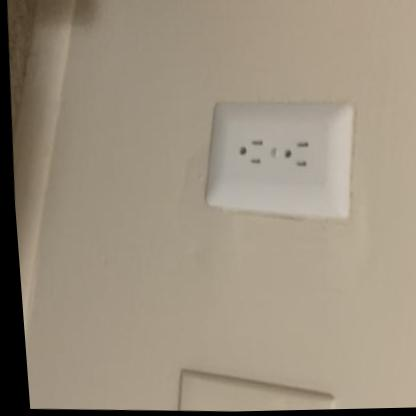OUTLET: (197, 96, 363, 217)
